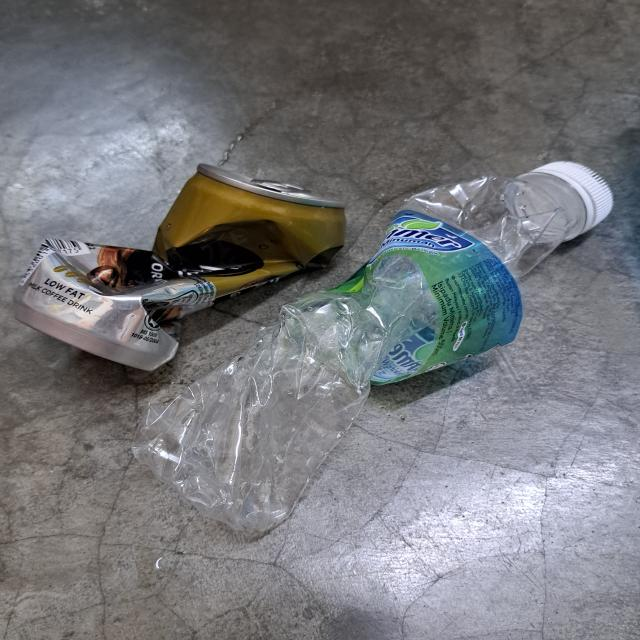can: (14, 162, 349, 373)
plastic bottle: (130, 172, 586, 532)
plastic bottle cap: (533, 162, 617, 233)
pop tab: (251, 180, 311, 193)
